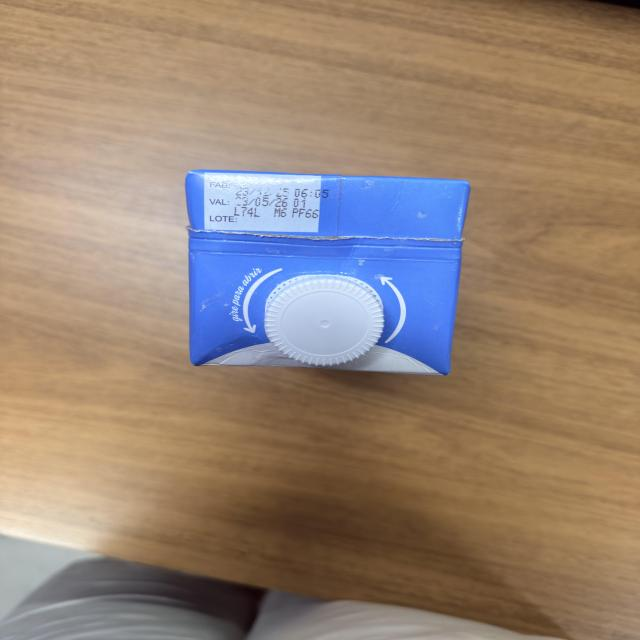Caixa de Leite: (186, 172, 474, 376)
